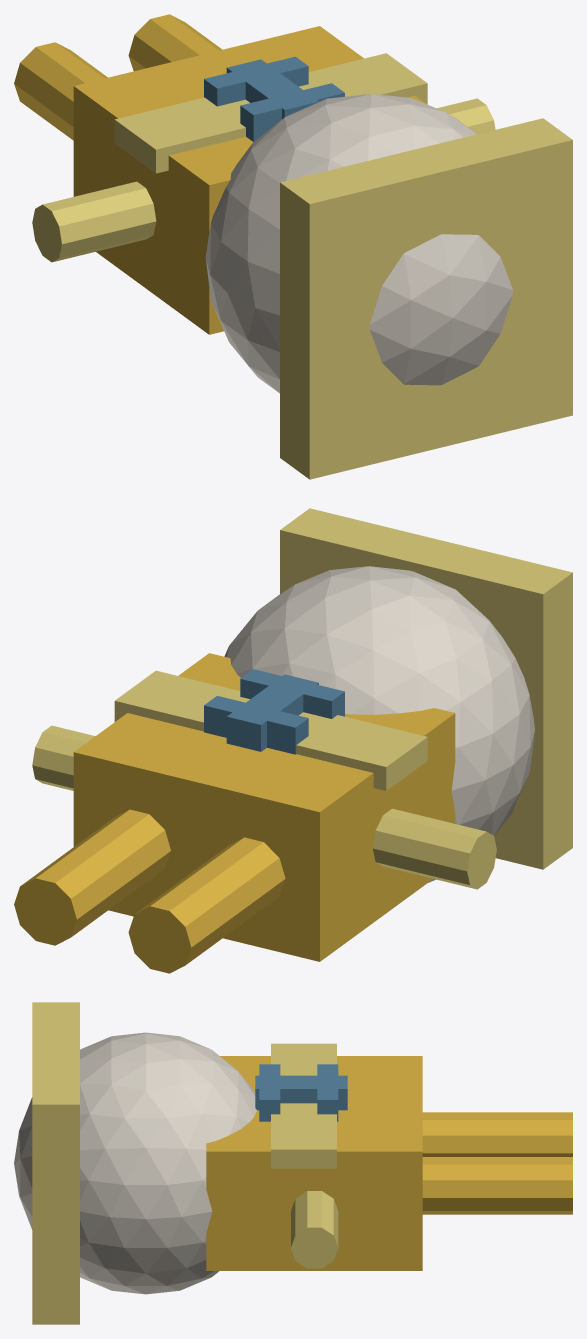
File: avatar-player.glb
3 renders of one model, top to bottom at view 1: azimuth 30°, elevation 25°; view 2: azimuth 150°, elevation 25°; view 3: azimuth 270°, elevation 25°, orthographic. The views are drawn at different scales.
Parts seen in each view (by area): view 1: world; view 2: world; view 3: world.
Boxes of the visible parts, x1=… form: world: x1=14, y1=14, x2=572, y2=479; world: x1=14, y1=508, x2=572, y2=973; world: x1=14, y1=1002, x2=572, y2=1324.
Bounding box in the file's own units: 1.52 × 1 × 2.12.
